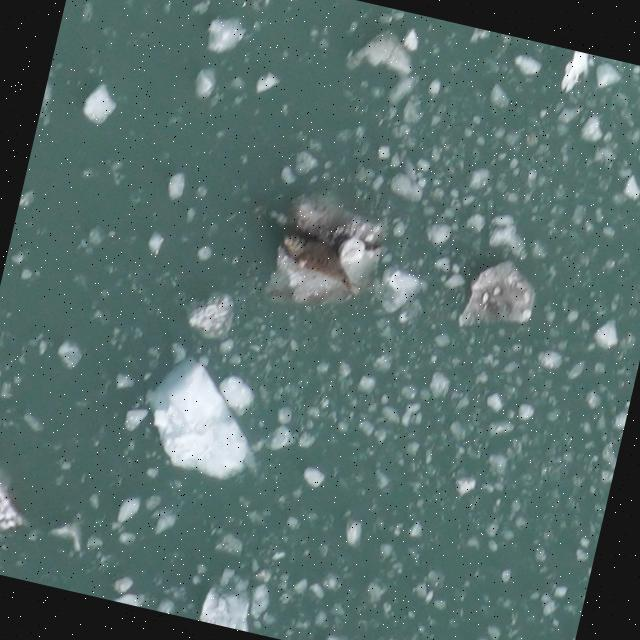seal: (265, 222, 371, 300)
